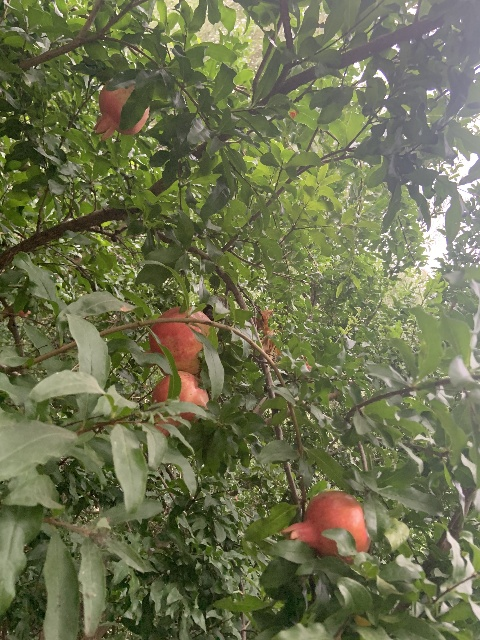ripe: (280, 490, 370, 562), (142, 306, 209, 375), (151, 370, 209, 437), (93, 81, 149, 140)
